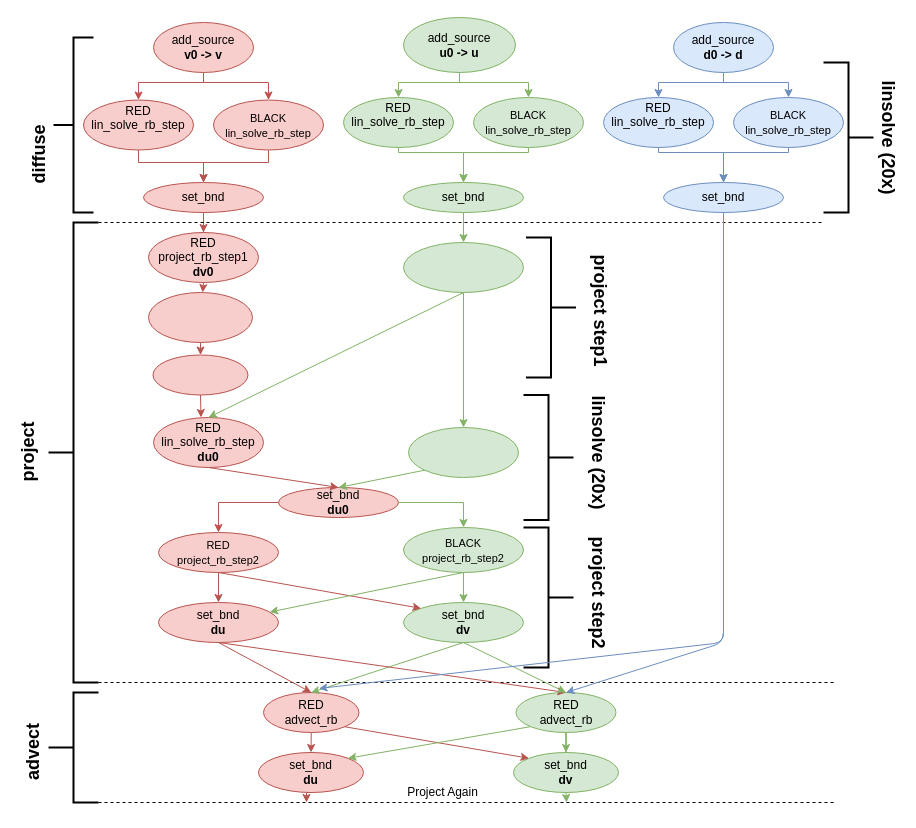
Some shapes in this 916 by 828 pixel diagram are drawn without their labels. The box of each missing label's shape, as (x1, y1, x2, y2) in pixels:
BLACK lin_solve_rb_step du0: (408, 426, 518, 478)
BLACK project_rb_step1 dv0: (148, 292, 252, 342)
MemSetAsync du0: (402, 242, 524, 292)
set_bnd dv0: (152, 354, 248, 395)
